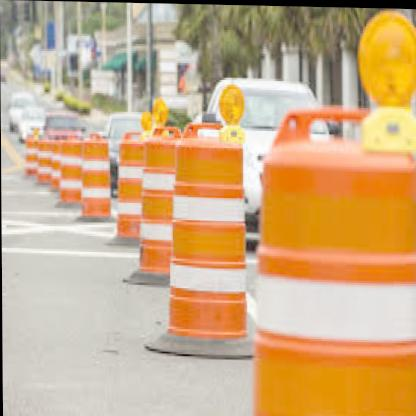obstacle: (163, 133, 247, 339)
